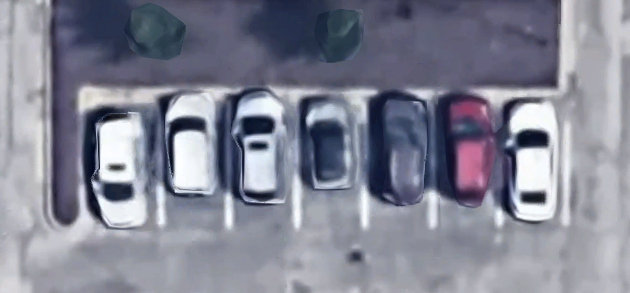Occupied: (86, 97, 160, 227), (296, 97, 365, 229), (160, 97, 229, 228), (229, 98, 296, 229), (366, 98, 433, 227), (433, 99, 500, 227), (499, 99, 566, 226)
